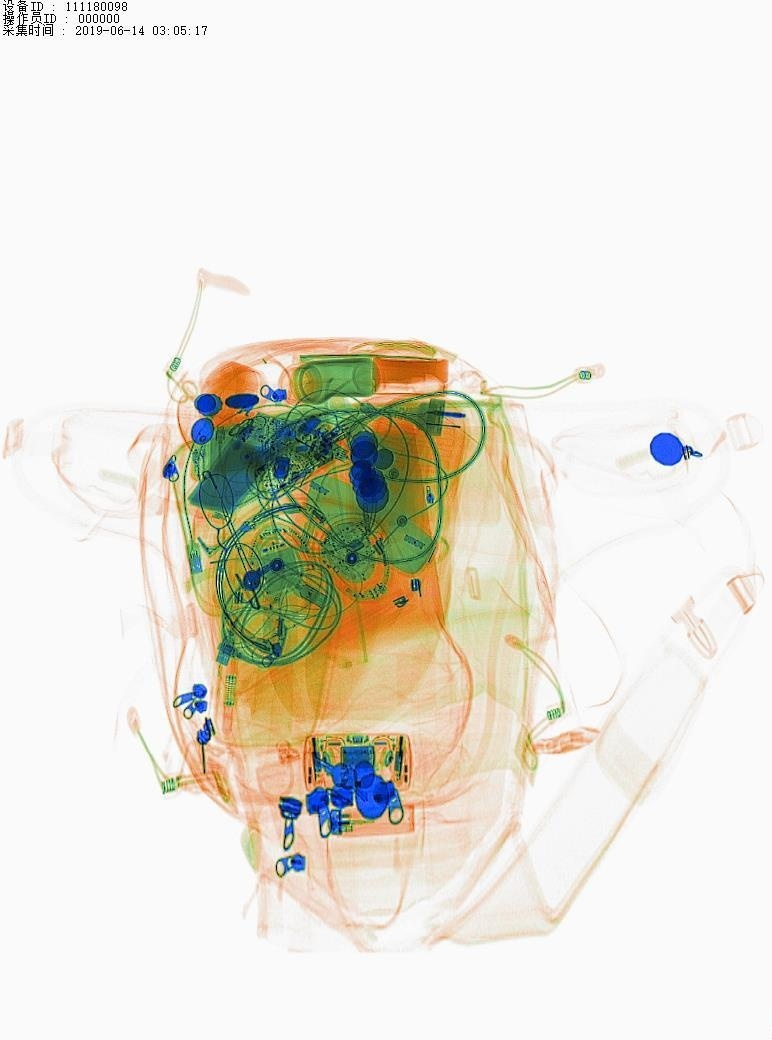NonmetallicFire: (313, 798, 439, 848)
